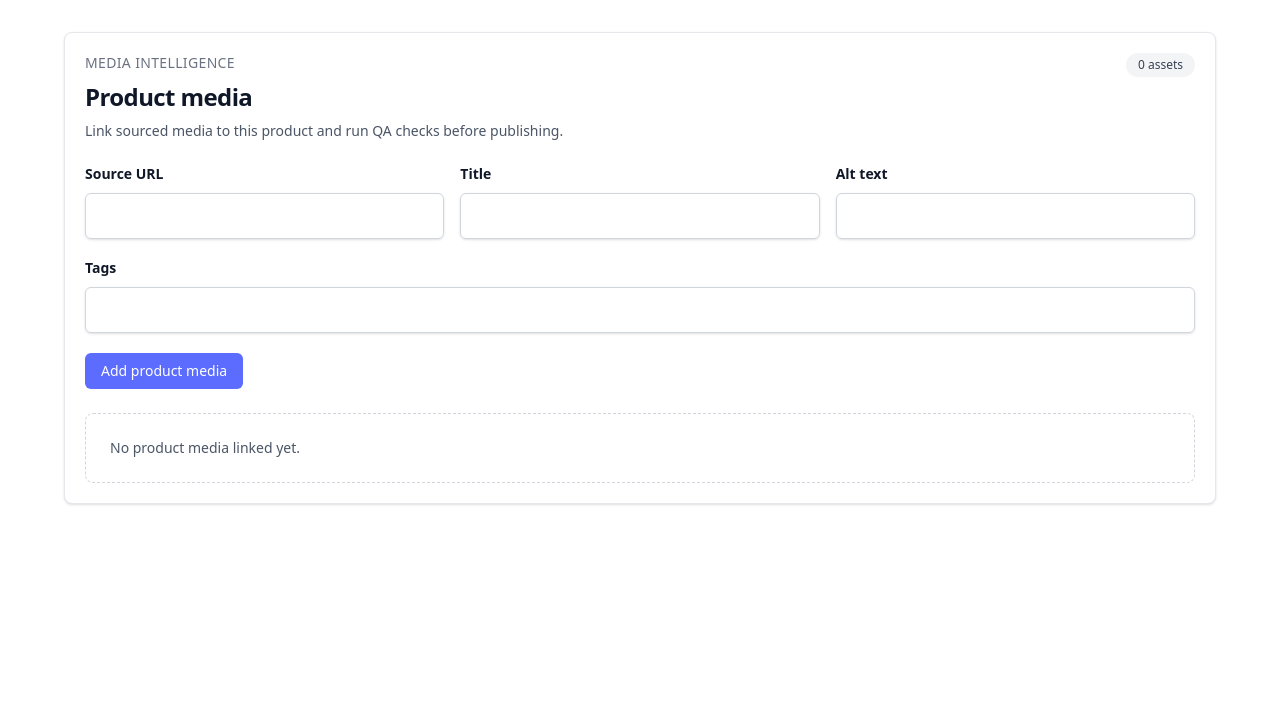
Scenario: ProductMediaPanel › sources media already linked to the product
The image size is (1280, 720).
Step 1. Type "https://supplier.example/lifestyle.png" into the field labelled "Source URL" → (265, 216), box [85,193,444,239]
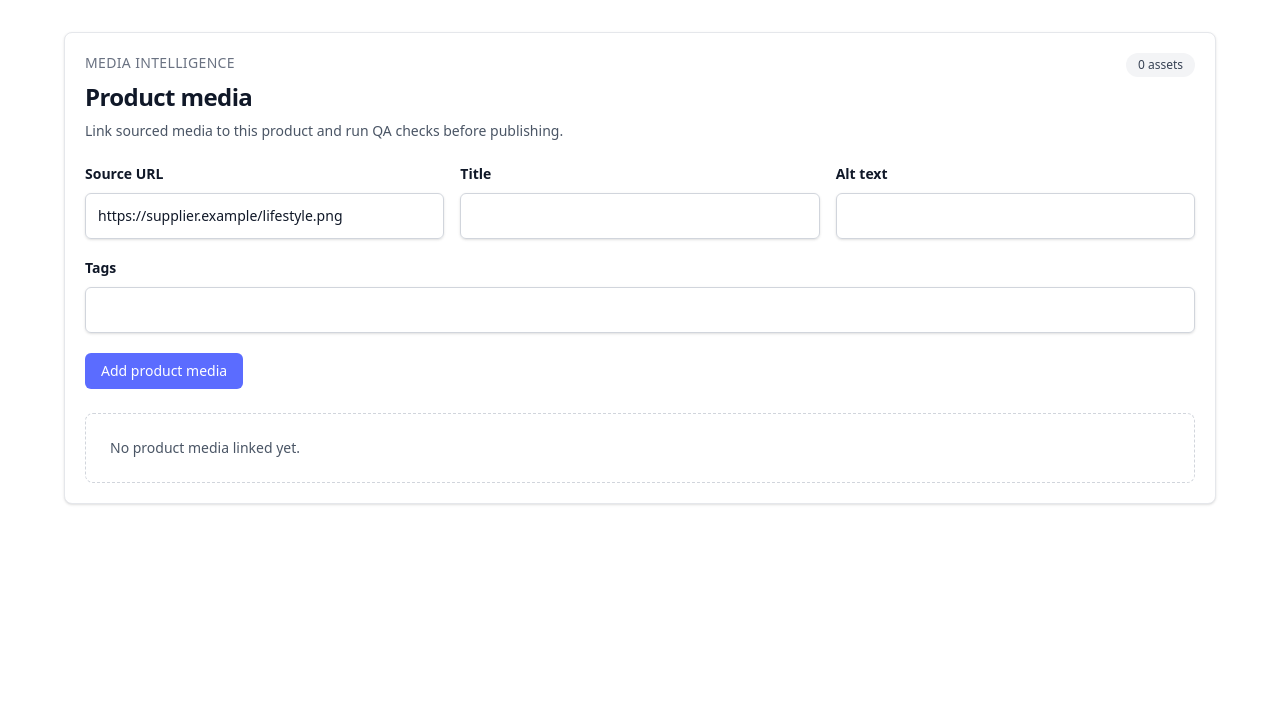
Step 2. Type "Lifestyle image" into the field labelled "Title" → (640, 216), box [460,193,820,239]
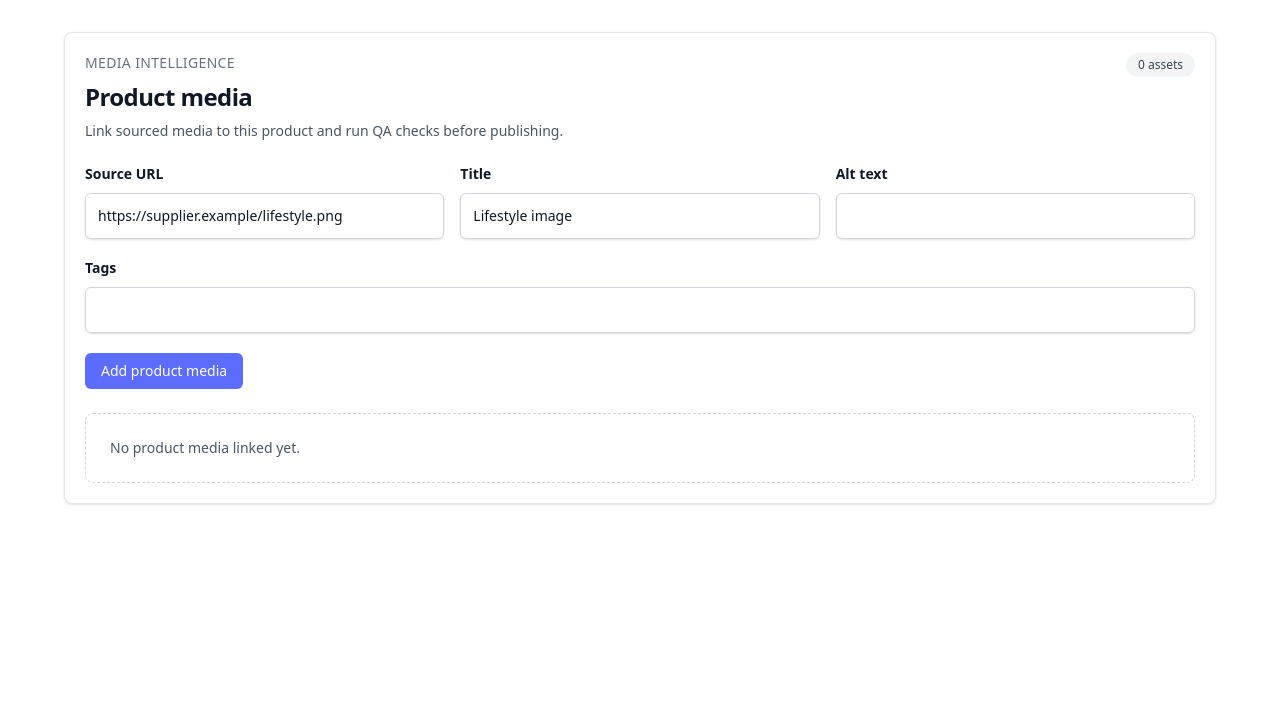
Step 3. Type "New product lifestyle image" into the field labelled "Alt text" → (1015, 216), box [836,193,1195,239]
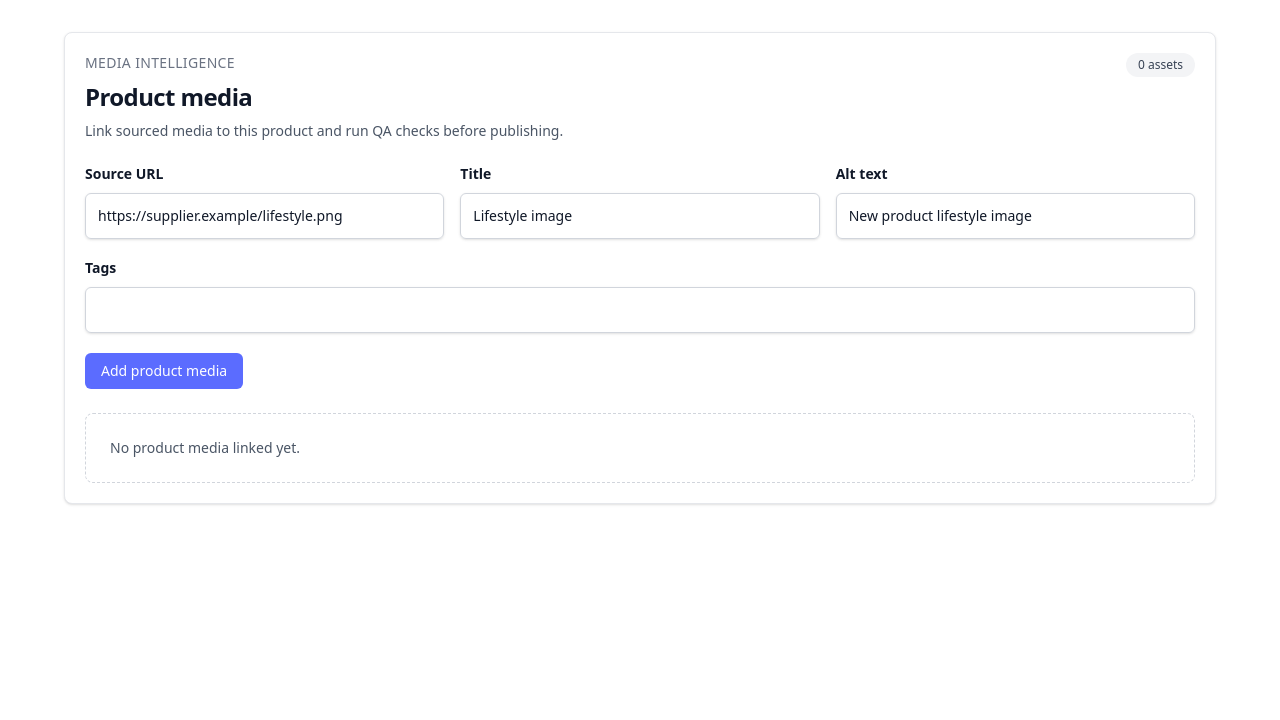
Step 4. Click the button "Add product media" → (164, 371), box [85,353,243,389]
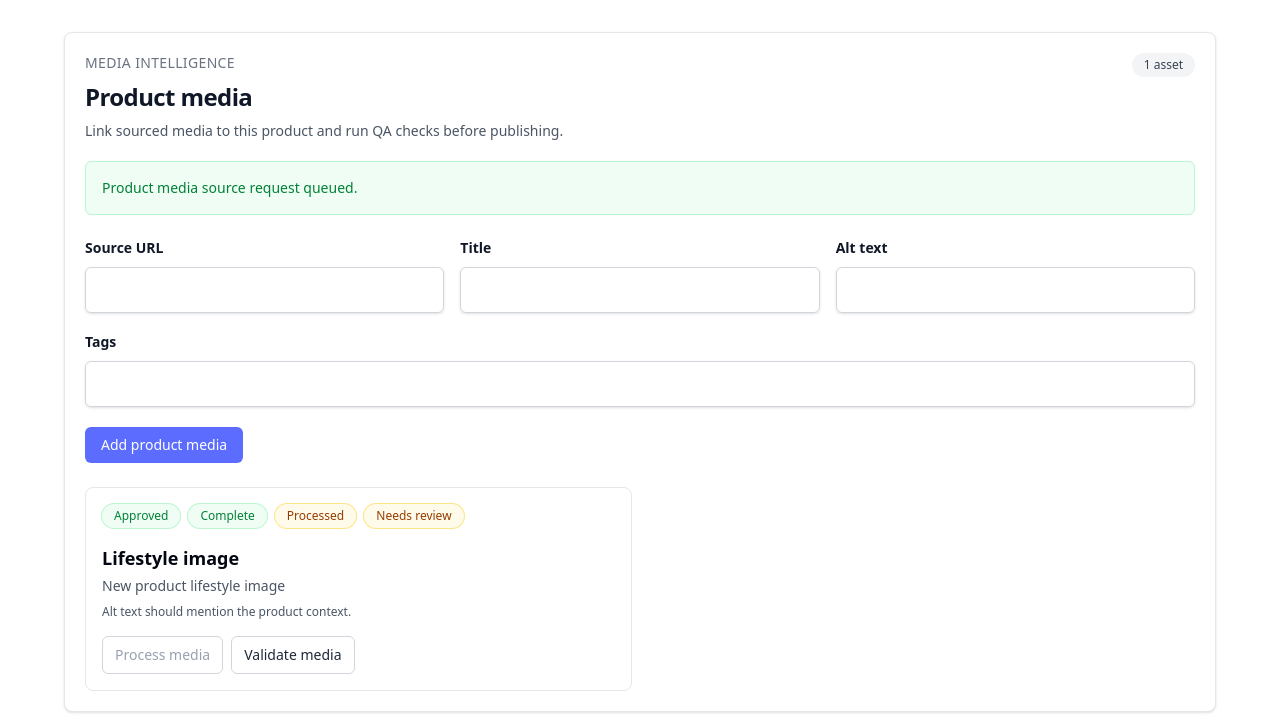
expect the heading "Lifestyle image" is shown: met, box [102,546,239,570]
